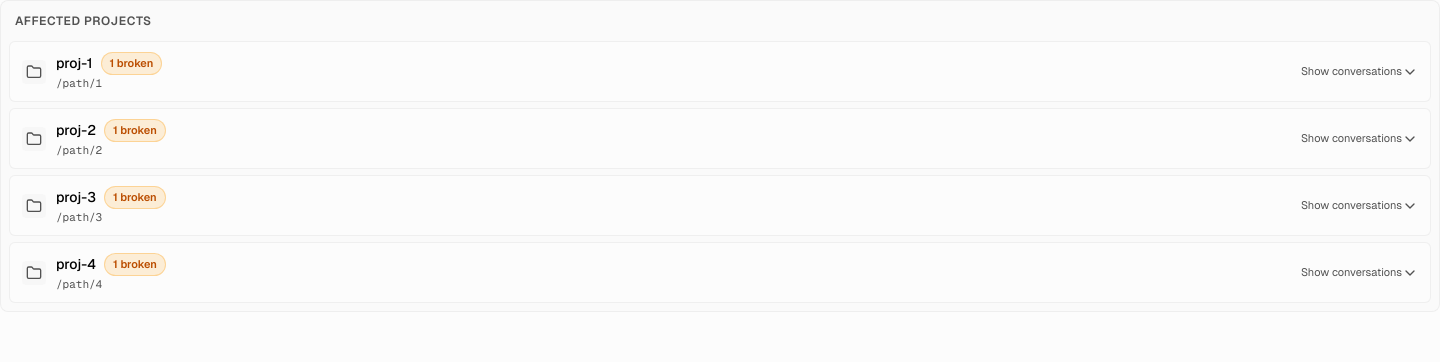
Scenario: ProjectGroupAccordion › collapses all groups by default when groups count > 2 and toggles on click
Expected: the text "Chat 1" is not shown
Click first header to expand
Click the button "proj-1 1 broken /path/1 Show conversations". click: (74, 63)
box: [10,42,1430,101]
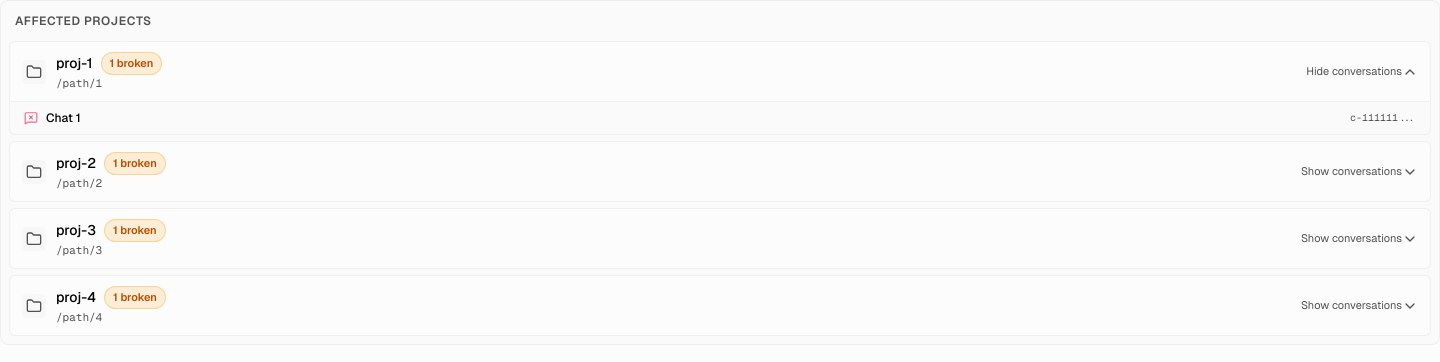
Expected: the button "proj-1 1 broken /path/1 Hide conversations" is expanded
Expected: the text "Chat 1" is shown, [46,110,81,126]
Click first header again to collapse
Click the button "proj-1 1 broken /path/1 Hide conversations". click: (74, 63)
box: [10,42,1430,101]
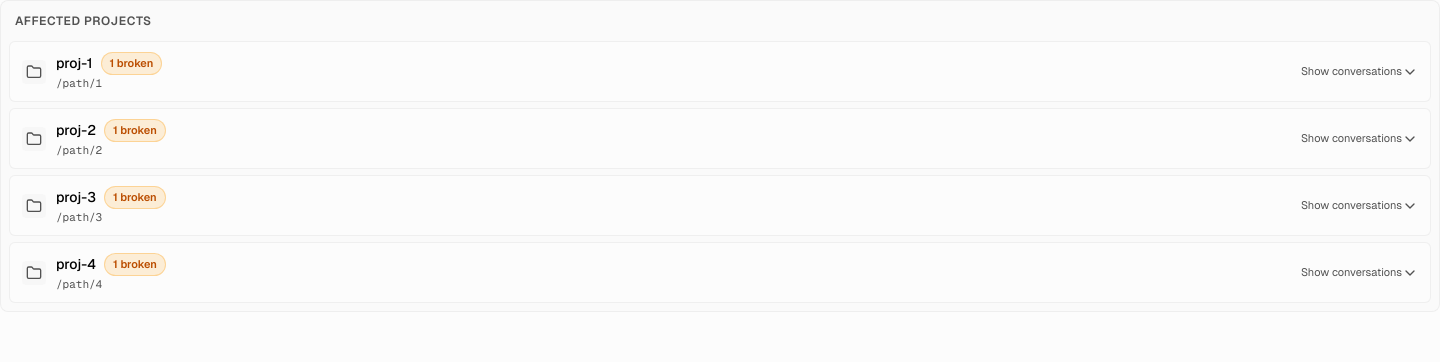
Expected: the button "proj-1 1 broken /path/1 Show conversations" is collapsed, [10,42,1430,101]
Expected: the text "Chat 1" is gone
